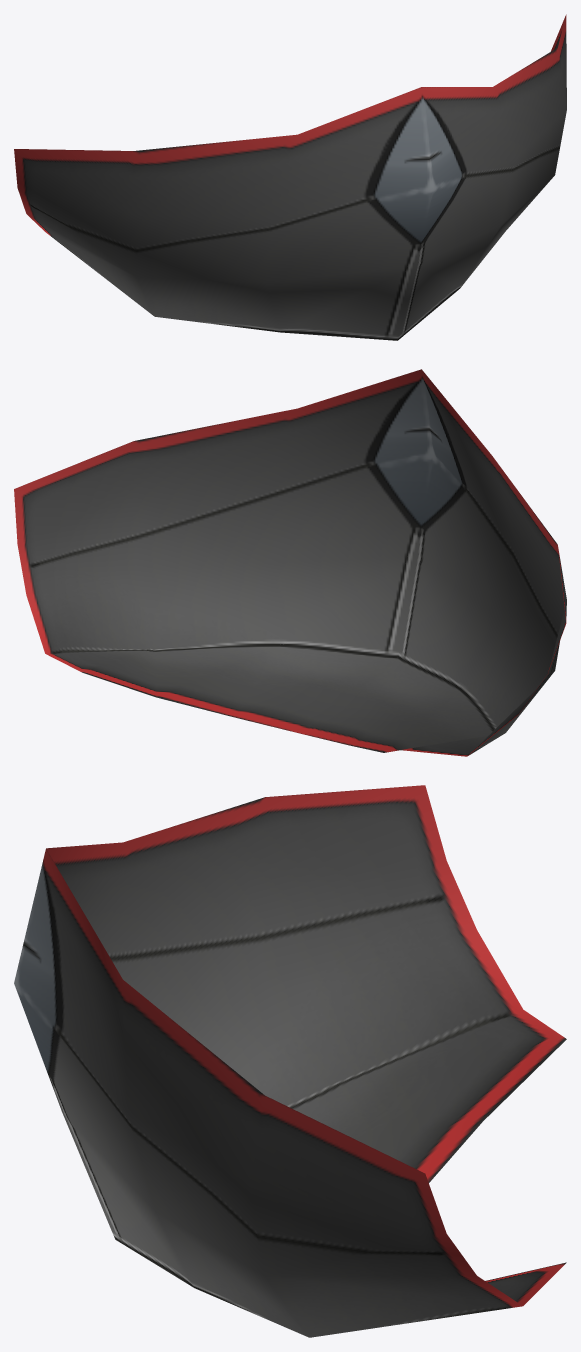
The model's file is ninjassuitmask.glb.
3 renders of one model, top to bottom at view 1: azimuth 30°, elevation 25°; view 2: azimuth 150°, elevation 25°; view 3: azimuth 270°, elevation 25°, orthographic. The views are drawn at different scales.
Parts seen in each view (by area): view 1: ninjassuitmask; view 2: ninjassuitmask; view 3: ninjassuitmask.
Part boxes in pixels (x1,y1,x2,y2): ninjassuitmask: (14, 14, 566, 340); ninjassuitmask: (14, 369, 566, 756); ninjassuitmask: (14, 785, 566, 1337).
Bounding box in the file's own units: 0.7028 × 0.3343 × 0.4229.
Materials: 1 (1 with a texture image).
